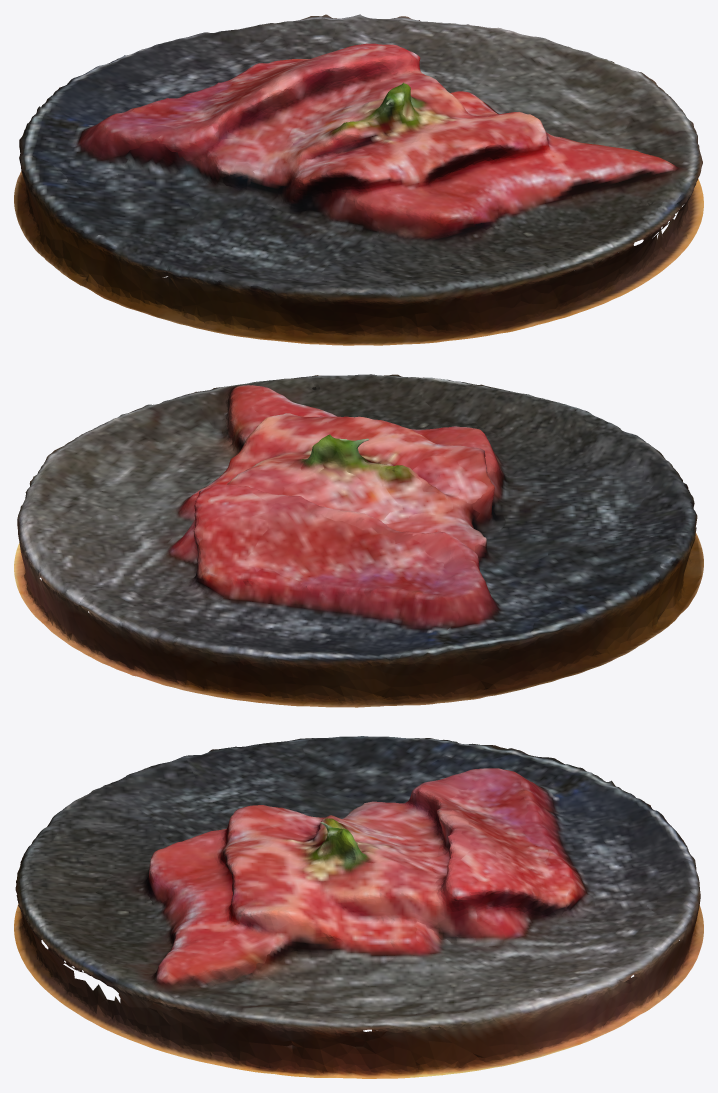
The model's file is yakiniku.glb.
3 views of the same model, one above another, from view 1: azimuth 30°, elevation 25°; view 2: azimuth 150°, elevation 25°; view 3: azimuth 270°, elevation 25° (orthographic).
Visible parts, largest first — view 1: mesh; view 2: mesh; view 3: mesh.
Part boxes in pixels (x1=…): mesh: x1=14, y1=14, x2=703, y2=345; mesh: x1=14, y1=374, x2=703, y2=707; mesh: x1=14, y1=736, x2=703, y2=1078.
Bounding box in the file's own units: 0.1923 × 0.0377 × 0.1906.
1 material, 1 textured.
